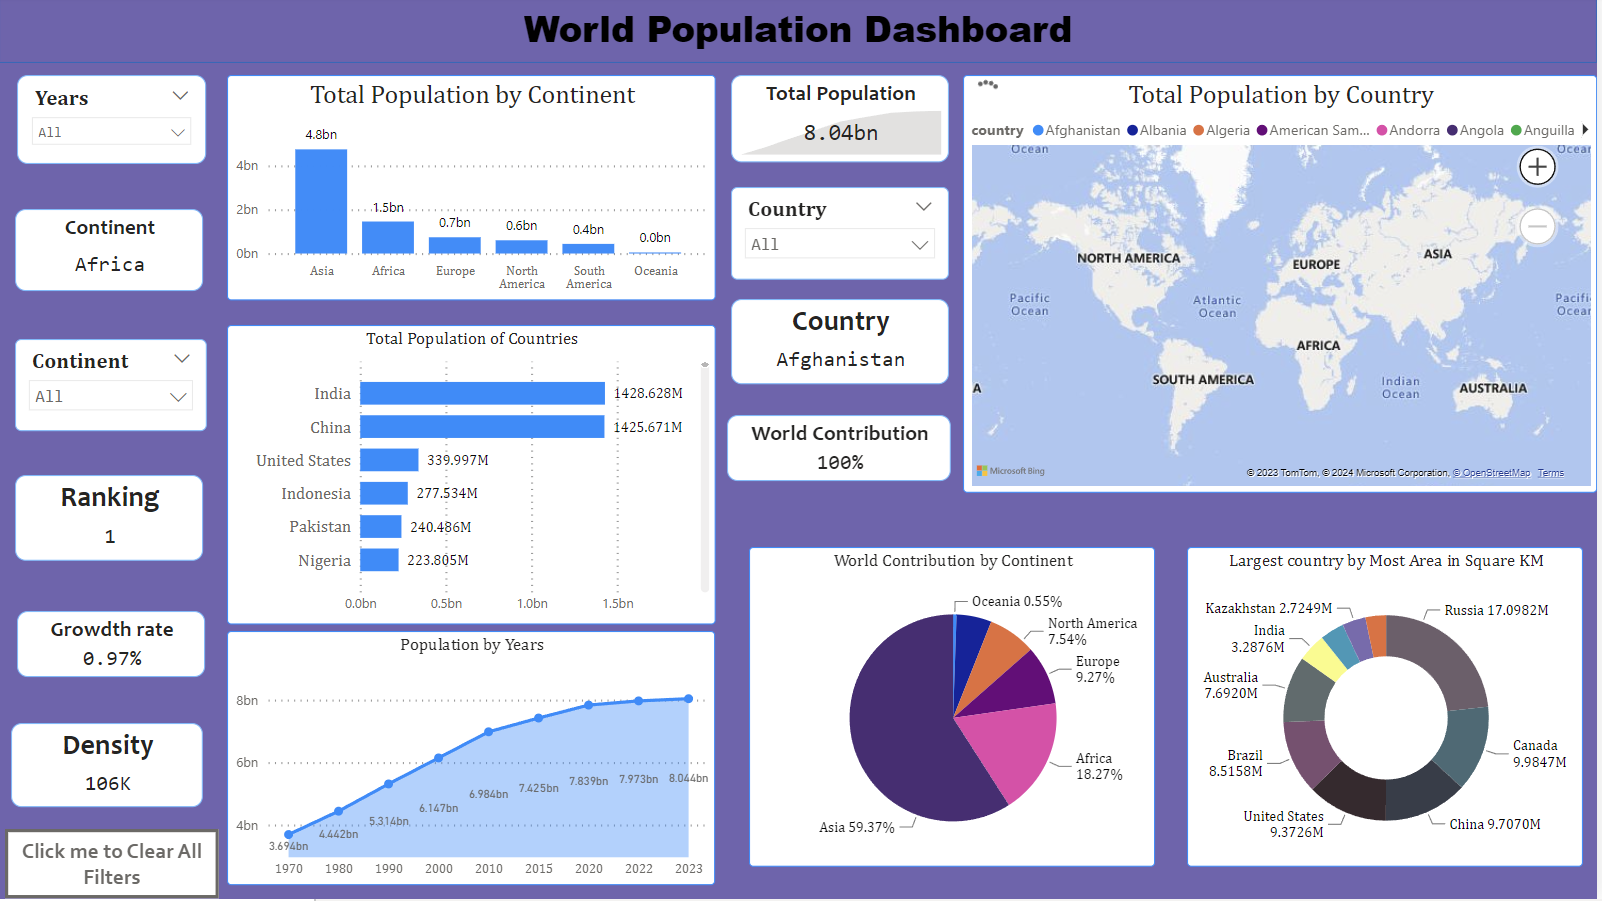

What the dashboard file says about the page in this screenshot:
{"tool":"powerbi","page":{"name":"World Population Dashboard","canvas":[1500,850],"ordinal":0},"visuals":[{"type":"slicer","fields":{"Values":["world_population_data.Years"]},"box":[16,76.4,177.7,83.5],"z":0},{"type":"clusteredColumnChart","title":" Total Population by Continent","fields":{"Category":["world_population_data.continent"],"Y":["Sum(world_population_data.Total Population)"]},"box":[213.3,76.4,458.5,211.5],"z":1000},{"type":"slicer","fields":{"Values":["world_population_data.continent"]},"box":[15,324.6,180.1,86.3],"z":2000},{"type":"slicer","fields":{"Values":["world_population_data.country"]},"box":[1522.5,102.5,277.5,100],"z":3000},{"type":"card","title":"Continent","fields":{"Values":["Min(world_population_data.continent)"]},"box":[15,202.6,176.4,76.9],"z":4000},{"type":"card","title":"Country","fields":{"Values":["Min(world_population_data.country)"]},"box":[686,287.9,204.4,80],"z":5000},{"type":"kpi","title":"Total Population","fields":{"Indicator":["Sum(world_population_data.Total Population)"],"TrendLine":["world_population_data.Years in T"]},"box":[686,76.4,204.4,81.8],"z":6000},{"type":"clusteredBarChart","title":"Total Population of Countries","fields":{"Category":["world_population_data.country"],"Y":["Sum(world_population_data.Total Population)"]},"box":[213.3,311,458.5,280.8],"z":7000},{"type":"donutChart","title":"Largest country by Most Area in Square KM","fields":{"Category":["world_population_data.country"],"Y":["Avg(world_population_data.area (km²))"]},"box":[1114.6,519.8,371.5,300.2],"z":8000},{"type":"card","title":"Growdth rate","fields":{"Values":["Avg(world_population_data.growth rate)"]},"box":[16.9,579.8,176.4,61.9],"z":9000},{"type":"actionButton","title":"Click to clear  Filters","box":[1535,250,265,75],"z":10000},{"type":"card","title":"Ranking","fields":{"Values":["Min(world_population_data.Rank in T)"]},"box":[15,452.2,176.4,80.7],"z":11000},{"type":"card","title":"Density","fields":{"Values":["Sum(world_population_data.density (km²))"]},"box":[11.3,684.9,180.1,78.8],"z":12000},{"type":"filledMap","title":"Total Population by Country","fields":{"Category":["world_population_data.country"],"Series":["world_population_data.country"]},"box":[904.4,76.9,594.8,392.2],"z":13000},{"type":"card","title":"World Contribution","fields":{"Values":["Sum(world_population_data.world percentage)"]},"box":[683,395.9,210.2,61.9],"z":14000},{"type":"pieChart","title":"World Contribution by Continent","fields":{"Category":["world_population_data.continent"],"Y":["Sum(world_population_data.world percentage)"]},"box":[703.6,519.8,380.9,300.2],"z":15000},{"type":"slicer","fields":{"Values":["world_population_data.country"]},"box":[686,181.3,204.4,87.1],"z":16000},{"type":"stackedAreaChart","title":"Population by Years","fields":{"Category":["world_population_data.Years in T"],"Y":["Sum(world_population_data.Total Population)"]},"box":[213.9,598.6,457.8,238.3],"z":17000},{"type":"shape","box":[0,0,1499.2,65.7],"z":18000},{"type":"actionButton","box":[5.7,785.1,200.6,64.9],"z":19000}]}

Visuals, with their boxes in screenshot pixels (x1, y1, x2, y2), scaled from the page's 1500x850 canvas onto the 1602x901 screenshot:
slicer - world_population_data.Years: (left=17, top=81, right=207, bottom=169)
" Total Population by Continent" clusteredColumnChart: (left=228, top=81, right=717, bottom=305)
slicer - world_population_data.continent: (left=16, top=344, right=208, bottom=436)
"Continent" card: (left=16, top=215, right=204, bottom=296)
"Country" card: (left=733, top=305, right=951, bottom=390)
"Total Population" kpi: (left=733, top=81, right=951, bottom=168)
"Total Population of Countries" clusteredBarChart: (left=228, top=330, right=717, bottom=627)
"Largest country by Most Area in Square KM" donutChart: (left=1190, top=551, right=1587, bottom=869)
"Growdth rate" card: (left=18, top=615, right=206, bottom=680)
"Ranking" card: (left=16, top=479, right=204, bottom=565)
"Density" card: (left=12, top=726, right=204, bottom=810)
"Total Population by Country" filledMap: (left=966, top=82, right=1601, bottom=497)
"World Contribution" card: (left=729, top=420, right=954, bottom=485)
"World Contribution by Continent" pieChart: (left=751, top=551, right=1158, bottom=869)
slicer - world_population_data.country: (left=733, top=192, right=951, bottom=285)
"Population by Years" stackedAreaChart: (left=228, top=635, right=717, bottom=887)
shape: (left=0, top=0, right=1601, bottom=70)
actionButton: (left=6, top=832, right=220, bottom=900)
